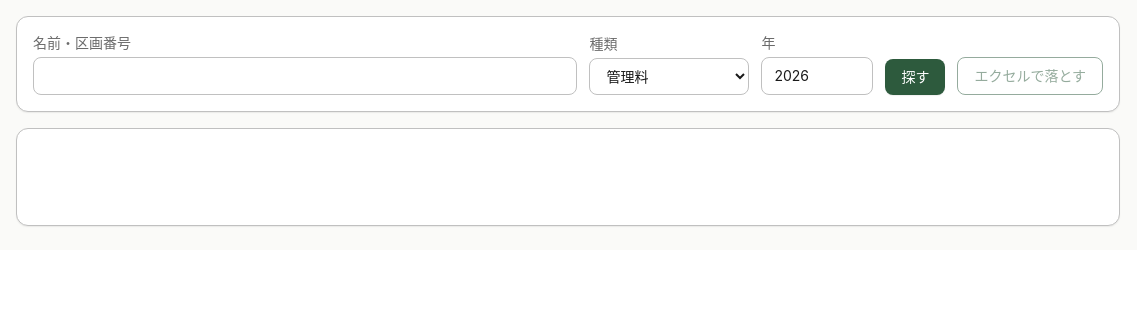
Test: CashierPaymentPage › 名前空で探すと案内を出し、APIは呼ばない
Click the button "探す" at point(915, 77), box [885,59,945,95]
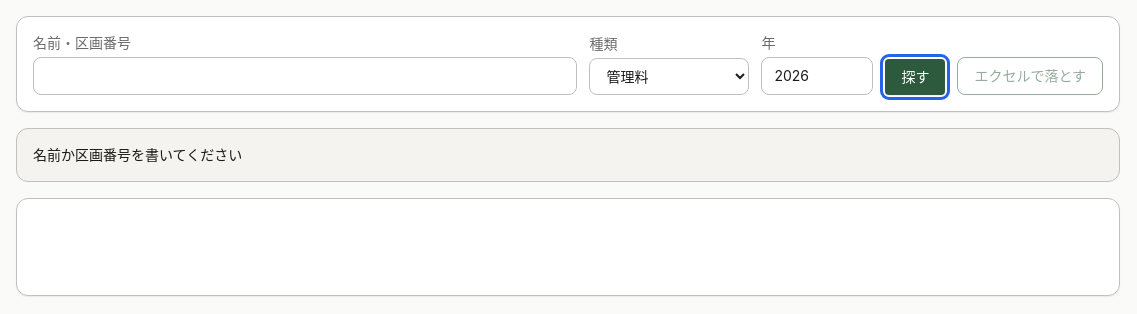
Result: the text "名前か区画番号を書いてください" is shown at [16,128,1120,182]
